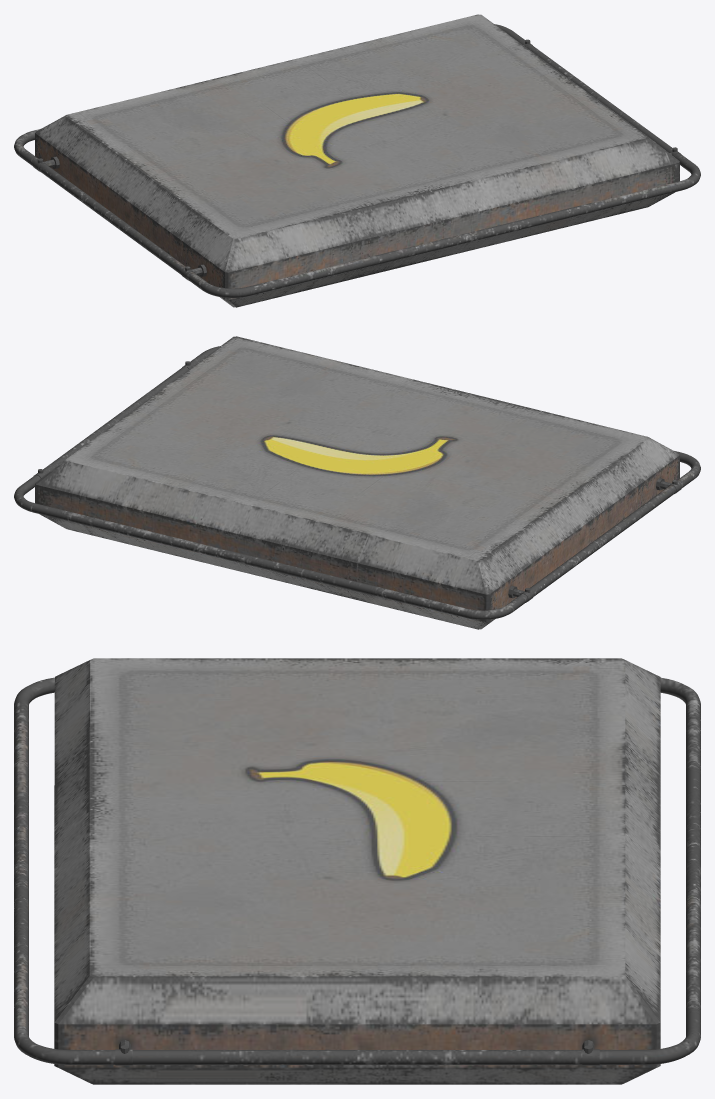
The model's file is poduim.fbx.
3 views of the same model, one above another, from view 1: azimuth 30°, elevation 25°; view 2: azimuth 150°, elevation 25°; view 3: azimuth 270°, elevation 25° (orthographic). The views are drawn at different scales.
Visible parts, largest first — view 1: Box015, Rectangle001; view 2: Box015, Rectangle001; view 3: Box015, Rectangle001.
Part boxes in pixels (x1,y1,x2,y2): Box015: (35,14,679,307); Rectangle001: (14,24,700,297); Box015: (35,336,679,629); Rectangle001: (14,346,700,619); Box015: (54,658,660,1084); Rectangle001: (14,677,700,1064).
Bounding box in the file's own units: 4532 × 596 × 3459.
